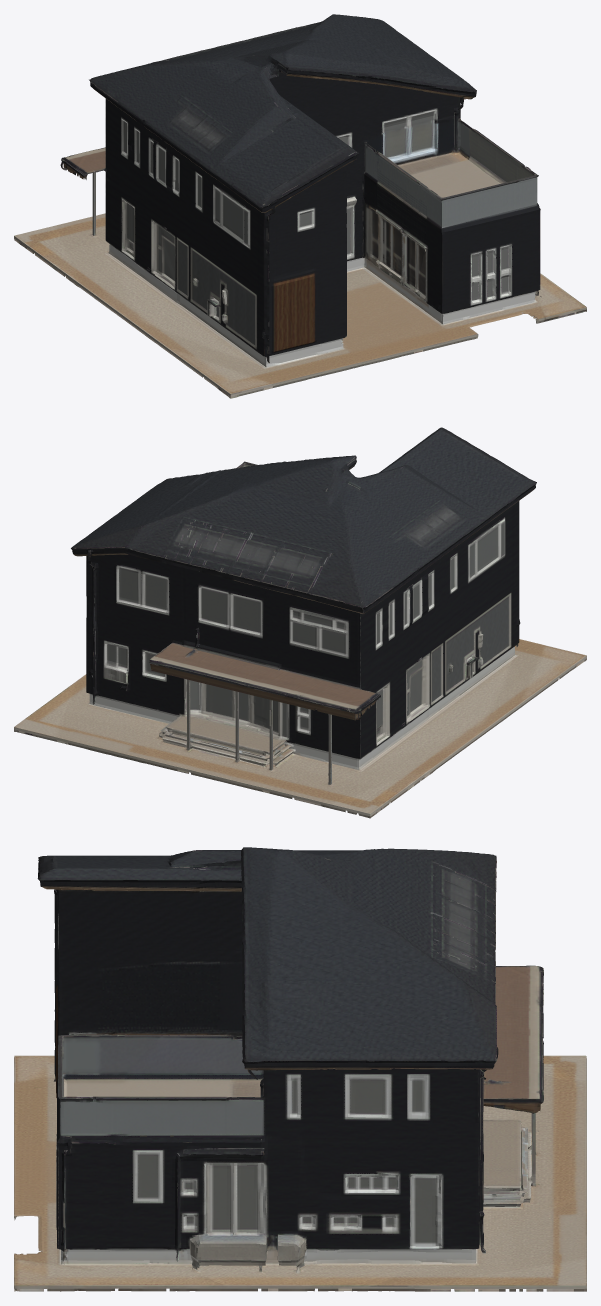
Rendered from sakyo-house-v2.glb.
3 views of the same model, one above another, from view 1: azimuth 30°, elevation 25°; view 2: azimuth 150°, elevation 25°; view 3: azimuth 270°, elevation 25° (orthographic). The views are drawn at different scales.
Parts seen in each view (by area): view 1: Mesh_0; view 2: Mesh_0; view 3: Mesh_0.
Part boxes in pixels (x1=…): Mesh_0: x1=14, y1=14, x2=586, y2=398; Mesh_0: x1=14, y1=427, x2=586, y2=818; Mesh_0: x1=14, y1=847, x2=586, y2=1291.
Size of the model in its own units: 1.82 by 1.15 by 1.91.
1 material, 1 textured.
